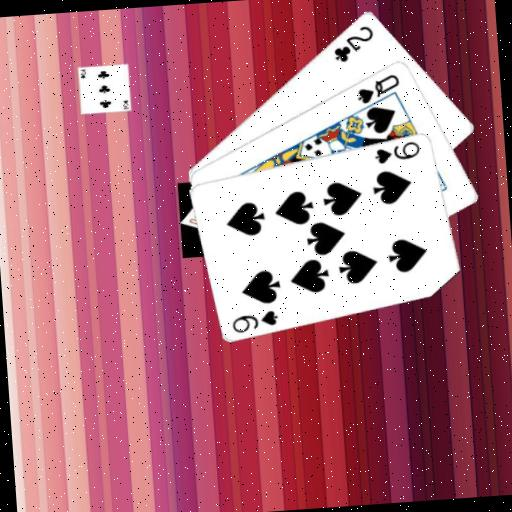2C: (329, 21, 377, 65)
9S: (371, 137, 423, 166), (229, 306, 281, 335)
QS: (352, 70, 403, 106)
